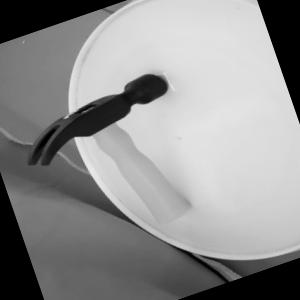martelo: (11, 68, 210, 260)
